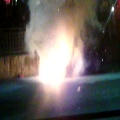fire: (37, 36, 69, 88)
